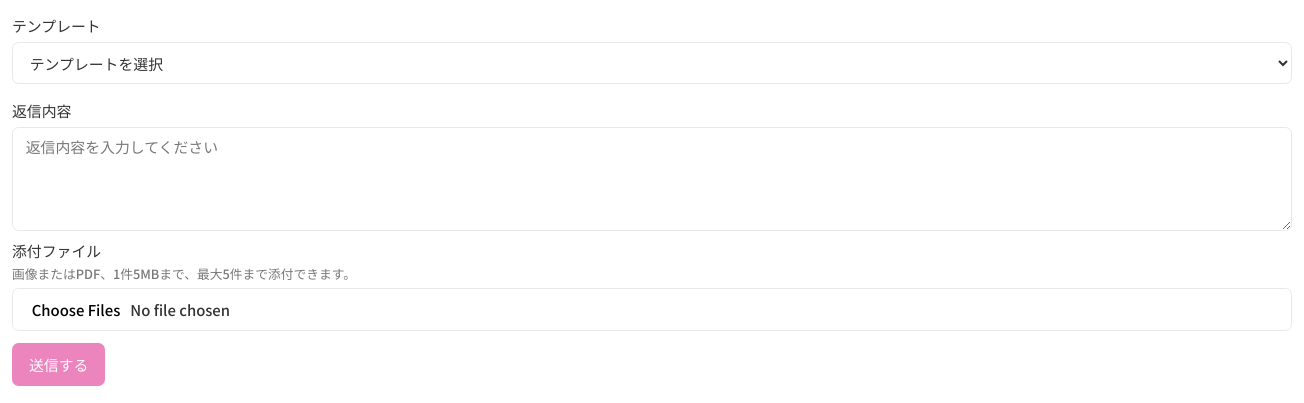
Scenario: ReplyForm › 送信に失敗した場合はエラーメッセージを表示する
The width and height of the screenshot is (1304, 403).
Type "手動入力の返信" into the text box labelled "返信内容".
click(652, 179); type("手動入力の返信")  # box [12,127,1292,231]
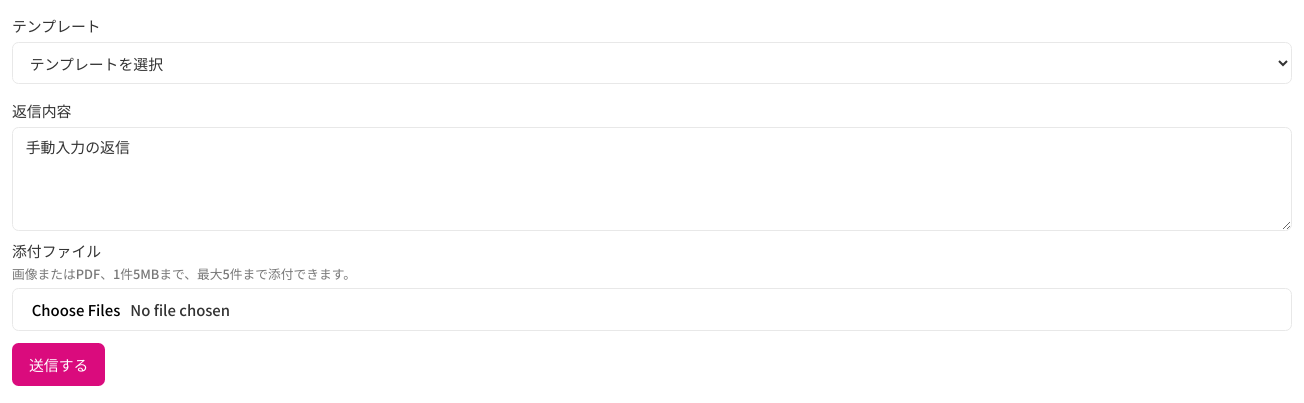
Click the button "送信する".
click(59, 365)  # box [12,343,106,386]
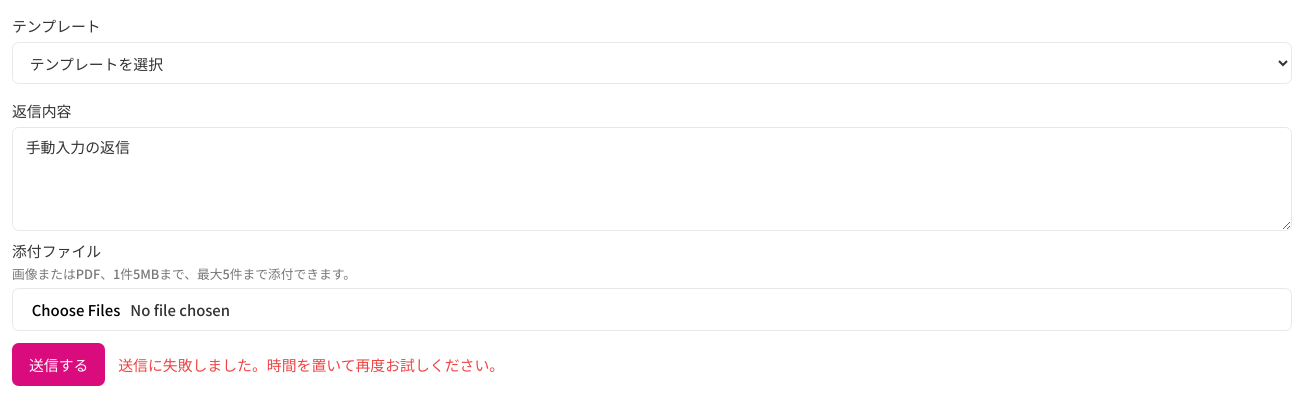
Result: the text "送信に失敗しました。時間を置いて再度お試しください。" is shown at [118,354,504,375]
